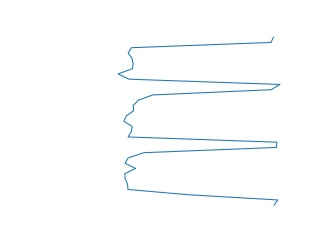majorRiverChannelBar: (117, 38, 281, 208)
